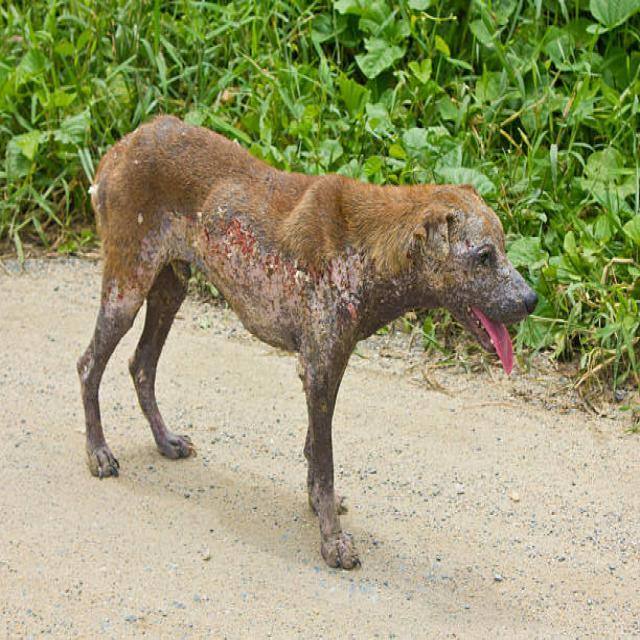mange: (151, 176, 378, 360)
